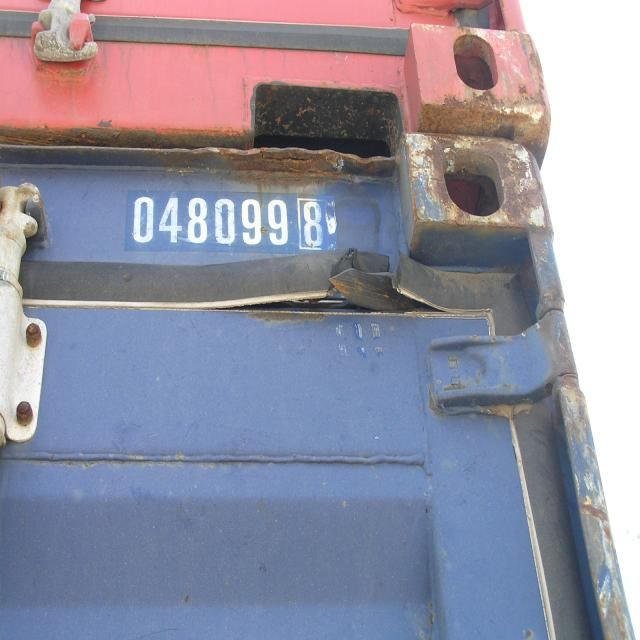hole: (149, 251, 494, 325)
